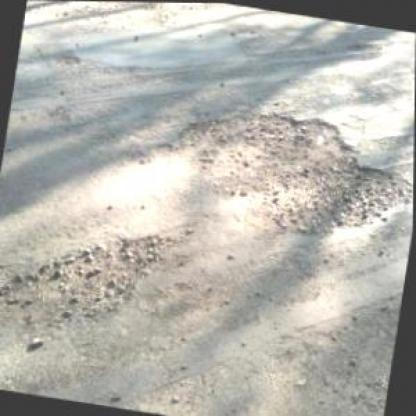pothole: (154, 90, 413, 255)
